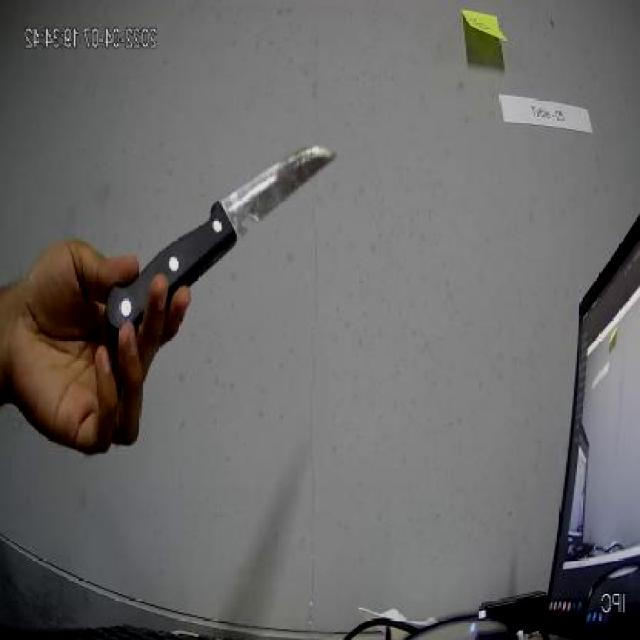knife: (82, 132, 340, 331)
